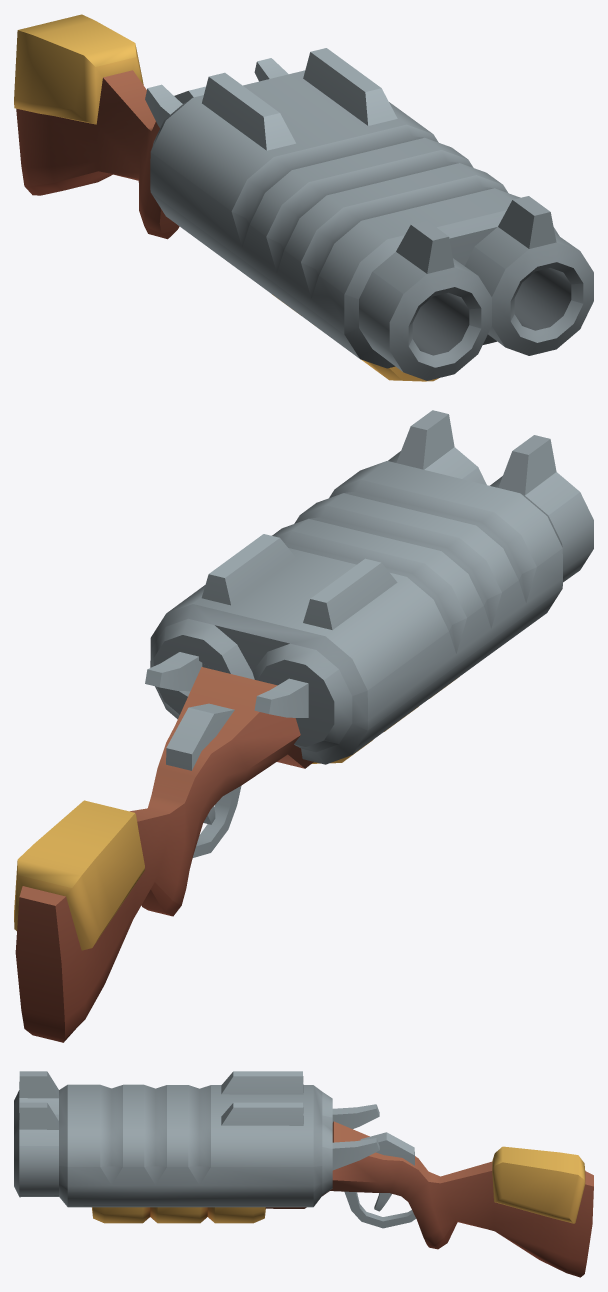
Rendered from shotgun.gltf.
The picture shows the model from 3 angles, top to bottom: view 1: azimuth 30°, elevation 25°; view 2: azimuth 150°, elevation 25°; view 3: azimuth 270°, elevation 25°; orthographic projection. The views are drawn at different scales.
Parts seen in each view (by area): view 1: shotgun; view 2: shotgun; view 3: shotgun.
Part boxes in pixels (bbox=[...]): shotgun: bbox=[14, 14, 593, 381]; shotgun: bbox=[14, 410, 593, 1042]; shotgun: bbox=[14, 1071, 593, 1277].
Size of the model in its own units: 0.4594 by 0.5817 by 1.67.
Materials: 1 (1 with a texture image).
